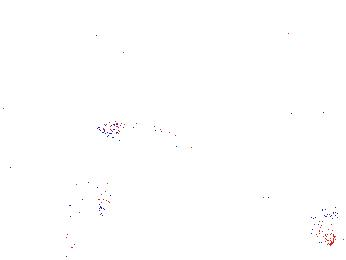X-ray fish: (73, 182, 120, 212)
glassfish: (63, 168, 122, 257), (94, 119, 197, 156)
